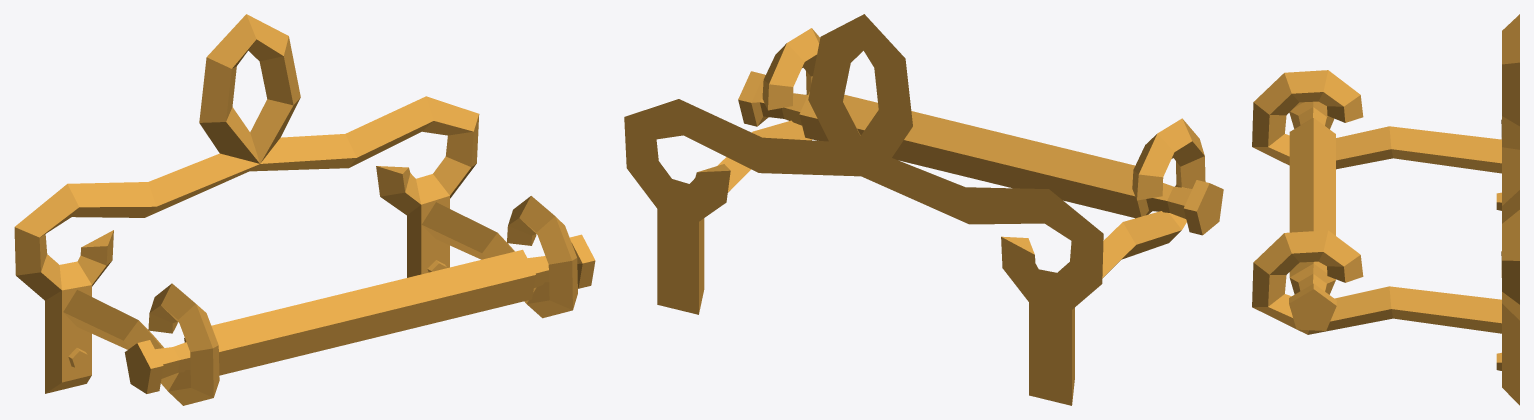
Rendered from SM_Toilet_Holder_Victorian.fbx.
3 renders of one model, left to right at view 1: azimuth 30°, elevation 25°; view 2: azimuth 150°, elevation 25°; view 3: azimuth 270°, elevation 25°, orthographic. The views are drawn at different scales.
Visible parts, largest first — view 1: toilet-holder-victorian; view 2: toilet-holder-victorian; view 3: toilet-holder-victorian.
Boxes of the visible parts, box(x1,y1,x2,y2) form: toilet-holder-victorian: box(14, 14, 595, 405); toilet-holder-victorian: box(624, 14, 1223, 405); toilet-holder-victorian: box(1252, 14, 1519, 405).
Bounding box in the file's own units: 0.245 × 0.1667 × 0.1338.
